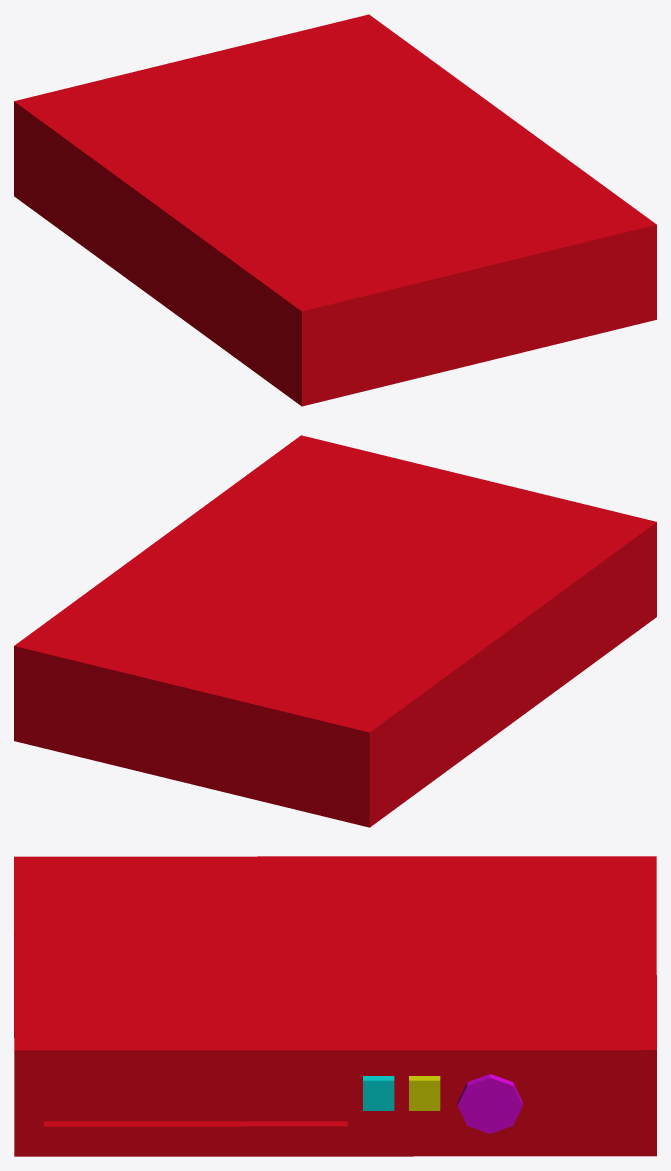
File: Mesh_lecteurvhs_001.fbx
3 renders of one model, top to bottom at view 1: azimuth 30°, elevation 25°; view 2: azimuth 150°, elevation 25°; view 3: azimuth 270°, elevation 25°, orthographic. The views are drawn at different scales.
Parts seen in each view (by area): view 1: pCube4; view 2: pCube4; view 3: pCube4.
Part boxes in pixels (<box>): pCube4: <box>14,14,656,406</box>; pCube4: <box>14,435,656,827</box>; pCube4: <box>14,856,656,1156</box>.
Bounding box in the file's own units: 39.08 × 9.75 × 53.49.
